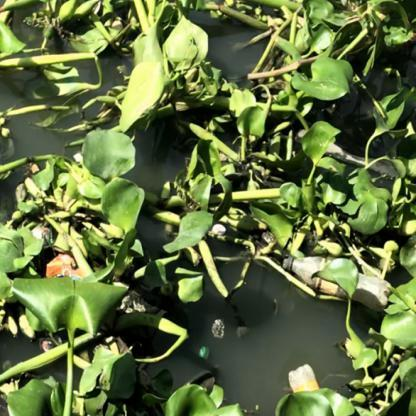Plastic: (279, 255, 398, 312)
